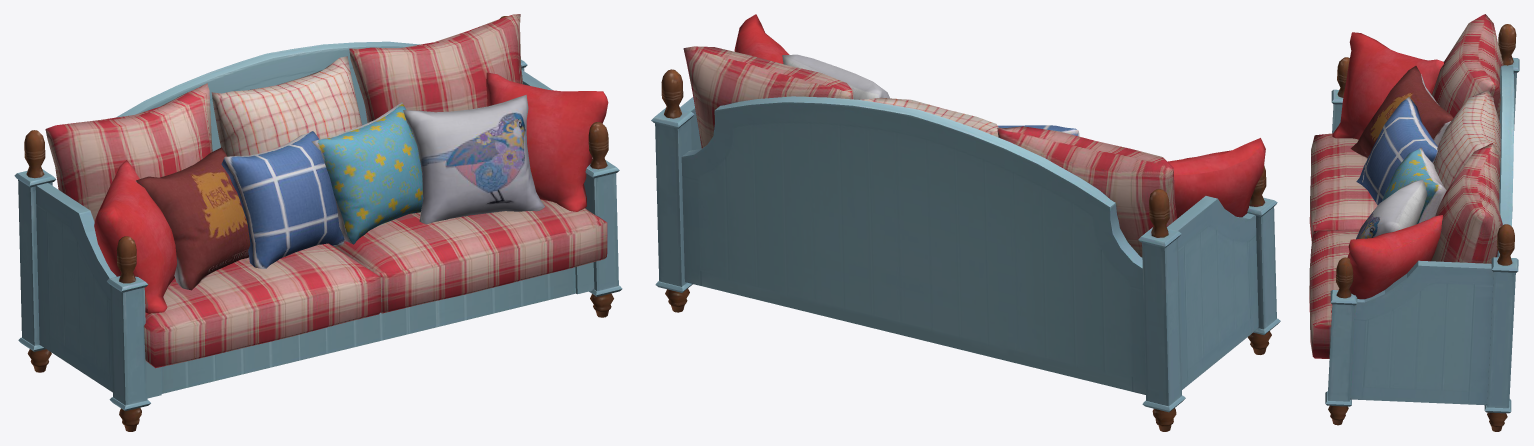
The model's file is SHAFA1.DAE.
The picture shows the model from 3 angles, left to right: view 1: azimuth 30°, elevation 25°; view 2: azimuth 150°, elevation 25°; view 3: azimuth 270°, elevation 25°; orthographic projection. The views are drawn at different scales.
Parts seen in each view (by area): view 1: modelMesh; view 2: modelMesh; view 3: modelMesh.
Part boxes in pixels (box(x1,y1,x2,y2)): modelMesh: box(14, 14, 622, 431); modelMesh: box(651, 14, 1280, 431); modelMesh: box(1309, 14, 1519, 431).
Size of the model in its own units: 417 by 200 by 172.
Materials: 1 (1 with a texture image).
